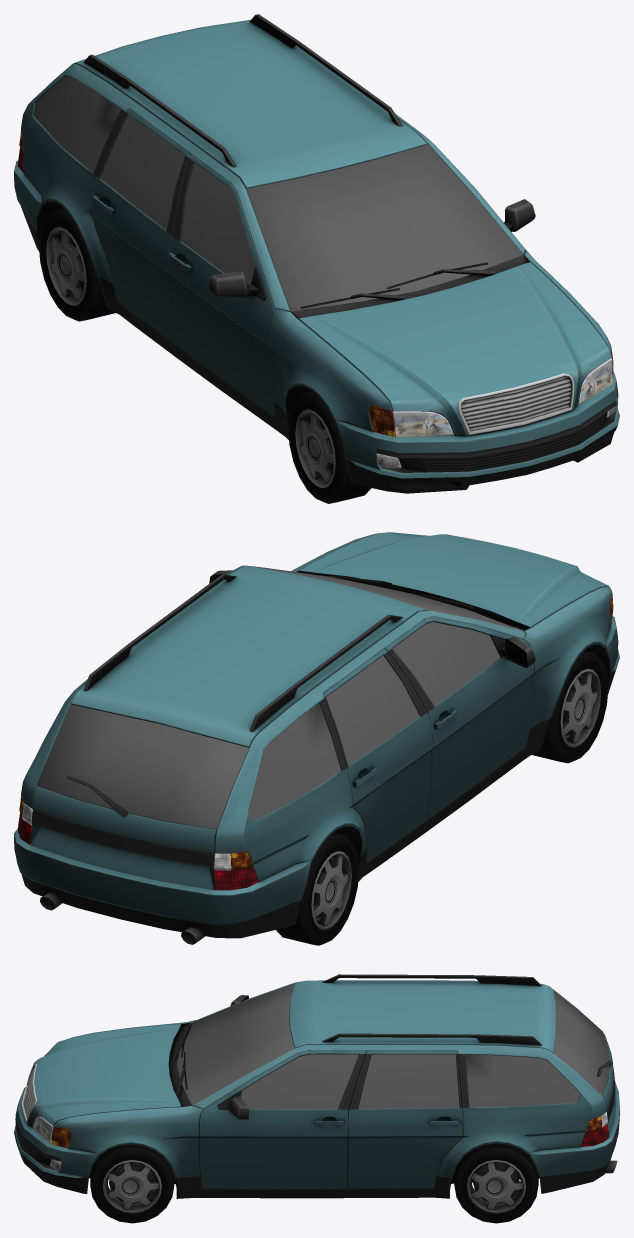
Rendered from Wagon.glb.
3 renders of one model, top to bottom at view 1: azimuth 30°, elevation 25°; view 2: azimuth 150°, elevation 25°; view 3: azimuth 270°, elevation 25°, orthographic. The views are drawn at different scales.
Visible parts, largest first — view 1: Wagon Body, Wheel_A002, Wheel_A003; view 2: Wagon Body, Wheel_A003, Wheel_A002; view 3: Wagon Body, Wheel_A001, Wheel_A.
Part boxes in pixels (x1,y1,x2,y2): Wagon Body: (14, 14, 619, 493); Wheel_A002: (288, 391, 371, 503); Wheel_A003: (39, 208, 115, 321); Wagon Body: (14, 532, 619, 944); Wheel_A003: (276, 832, 359, 945); Wheel_A002: (532, 650, 608, 763); Wagon Body: (14, 974, 619, 1198); Wheel_A001: (454, 1143, 538, 1223); Wheel_A: (90, 1144, 174, 1223).
Bounding box in the file's own units: 2.19 × 1.55 × 4.93.
Materials: 4 (3 with a texture image).
